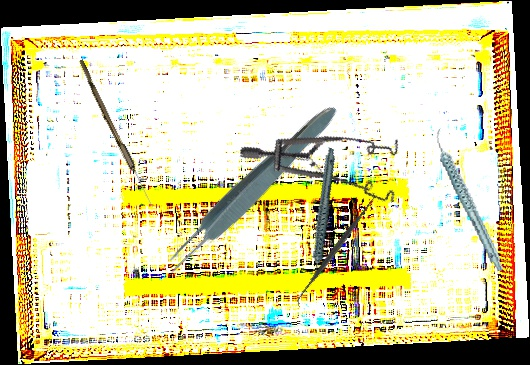Handpiece: (433, 121, 505, 279), (281, 147, 362, 282)
Spatula Surgical: (289, 190, 383, 309)
Speculum: (236, 95, 419, 247)
Surgical Spoon: (75, 59, 157, 209)
Tissue Forceps: (156, 97, 345, 281)
